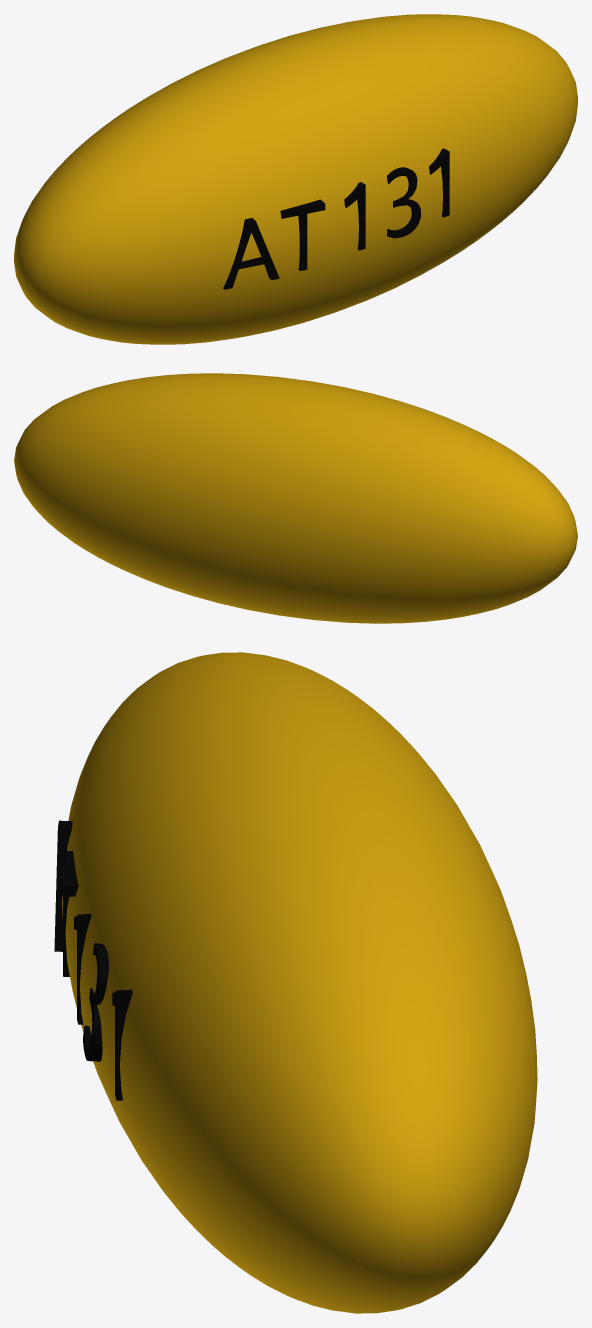
The model's file is Avodart.fbx.
3 views of the same model, one above another, from view 1: azimuth 30°, elevation 25°; view 2: azimuth 150°, elevation 25°; view 3: azimuth 270°, elevation 25° (orthographic). The views are drawn at different scales.
Visible parts, largest first — view 1: node_id114, node_id31, node_id94, node_id45, node_id57, node_id109; view 2: node_id114; view 3: node_id114, node_id94, node_id31, node_id109, node_id45.
Boxes of the visible parts, left/top/right/bottom form: node_id114: left=14, top=14, right=577, bottom=344; node_id31: left=223, top=218, right=279, bottom=289; node_id94: left=386, top=167, right=420, bottom=238; node_id45: left=280, top=199, right=325, bottom=270; node_id57: left=344, top=182, right=365, bottom=250; node_id109: left=429, top=148, right=449, bottom=217; node_id114: left=14, top=373, right=577, bottom=623; node_id114: left=62, top=652, right=537, bottom=1313; node_id94: left=83, top=943, right=108, bottom=1061; node_id31: left=54, top=820, right=72, bottom=951; node_id109: left=112, top=989, right=132, bottom=1100; node_id45: left=60, top=851, right=78, bottom=976.
Bounding box in the file's own units: 1.12 × 0.4606 × 0.4617.
Materials: 5 (2 with a texture image).
